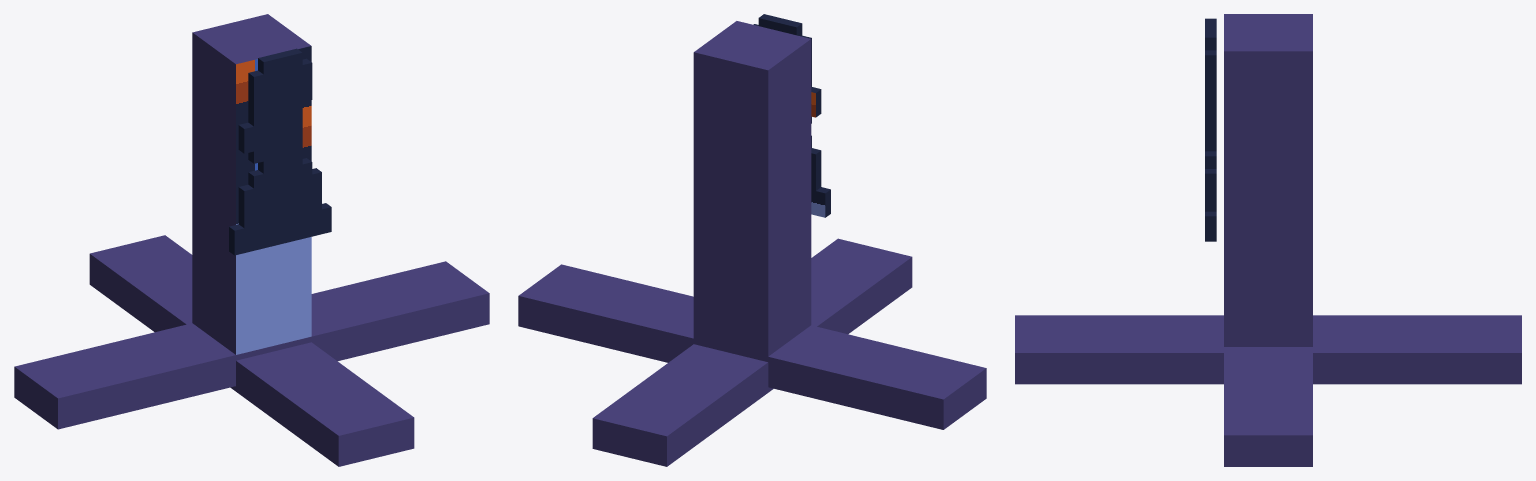
The model's file is solar_panel_frame.glb.
3 views of the same model, side by side, from view 1: azimuth 30°, elevation 25°; view 2: azimuth 150°, elevation 25°; view 3: azimuth 270°, elevation 25° (orthographic). The views are drawn at different scales.
Visible parts, largest first — view 1: solar_panel_frame_Pedestal_Assembly, solar_panel_frame_Power_Cable; view 2: solar_panel_frame_Pedestal_Assembly, solar_panel_frame_Power_Cable; view 3: solar_panel_frame_Pedestal_Assembly, solar_panel_frame_Power_Cable.
Boxes of the visible parts, x1,y1,x2,y2 form: solar_panel_frame_Pedestal_Assembly: [14, 14, 489, 466]; solar_panel_frame_Power_Cable: [229, 48, 331, 255]; solar_panel_frame_Pedestal_Assembly: [518, 21, 986, 466]; solar_panel_frame_Power_Cable: [753, 14, 830, 217]; solar_panel_frame_Pedestal_Assembly: [1015, 14, 1521, 466]; solar_panel_frame_Power_Cable: [1205, 18, 1216, 241].
Size of the model in its own units: 0.8 by 0.588 by 0.8.
1 material, 1 textured.
